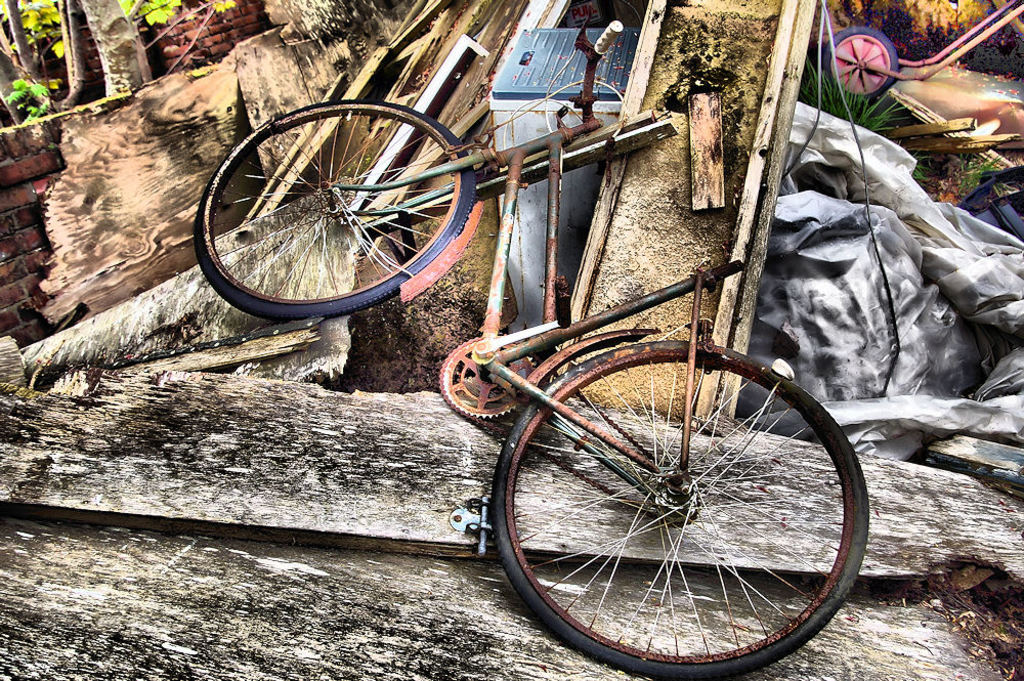Tree: (72, 0, 150, 100)
